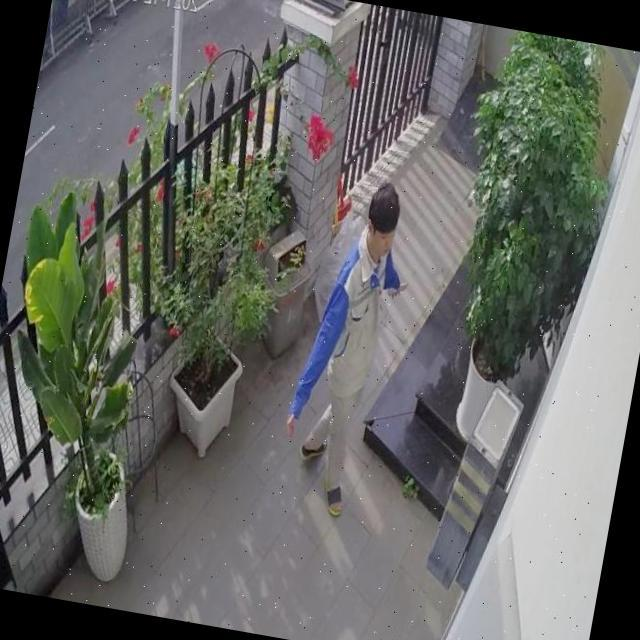person: (271, 173, 419, 518)
